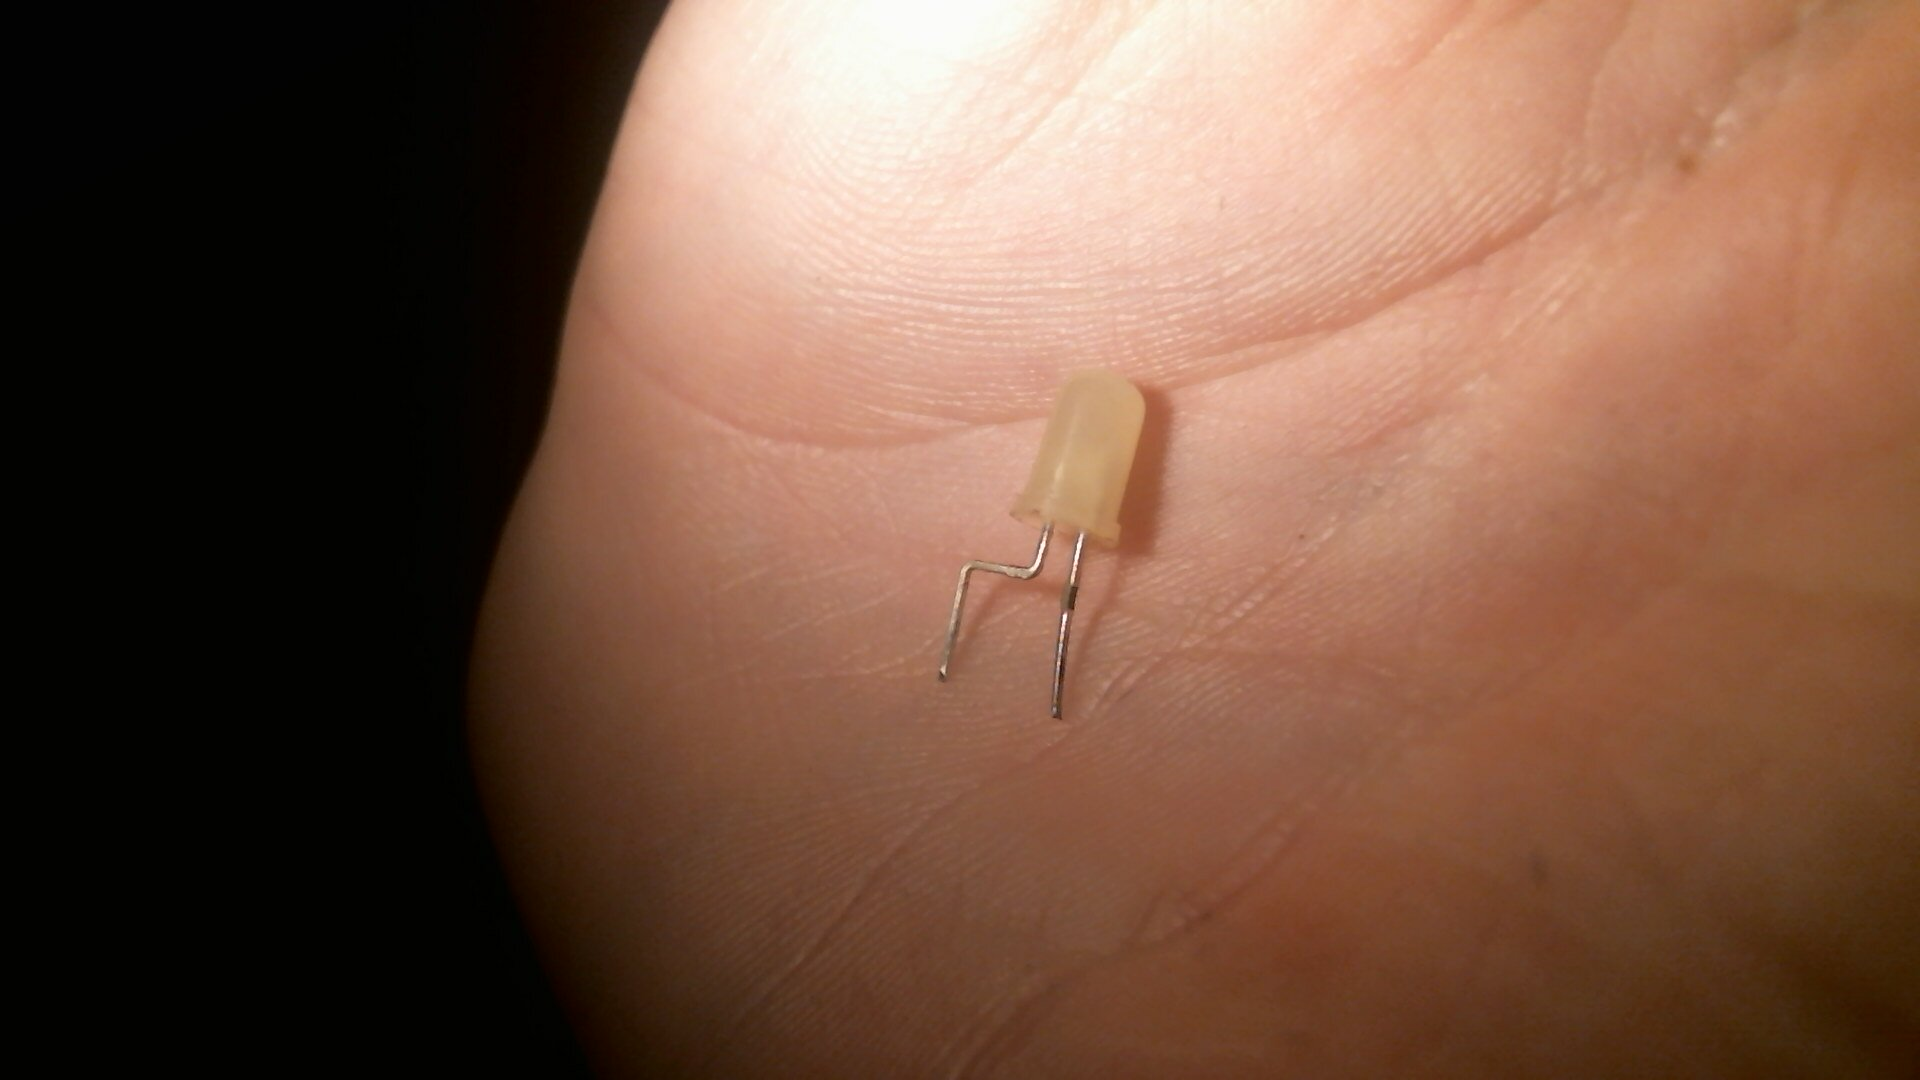LED: (1009, 364, 1150, 562)
